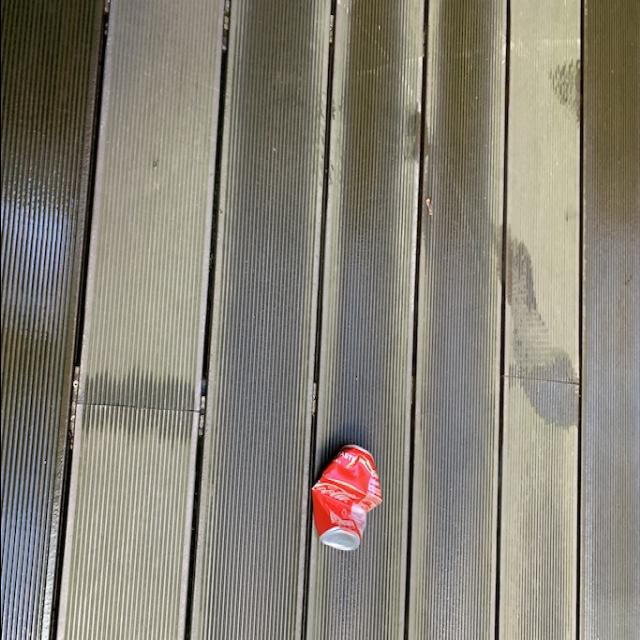litter: (302, 440, 378, 564)
